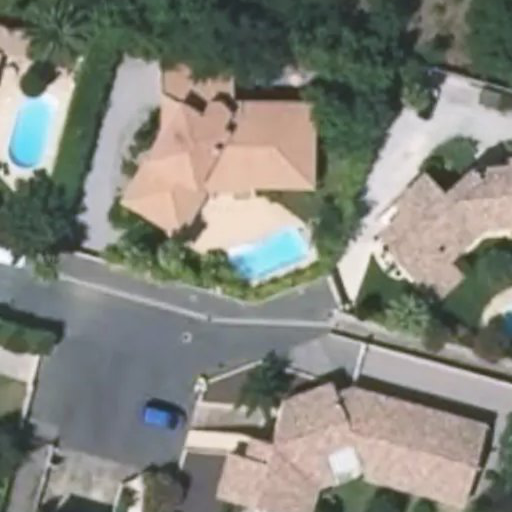pool: (212, 239, 298, 250)
